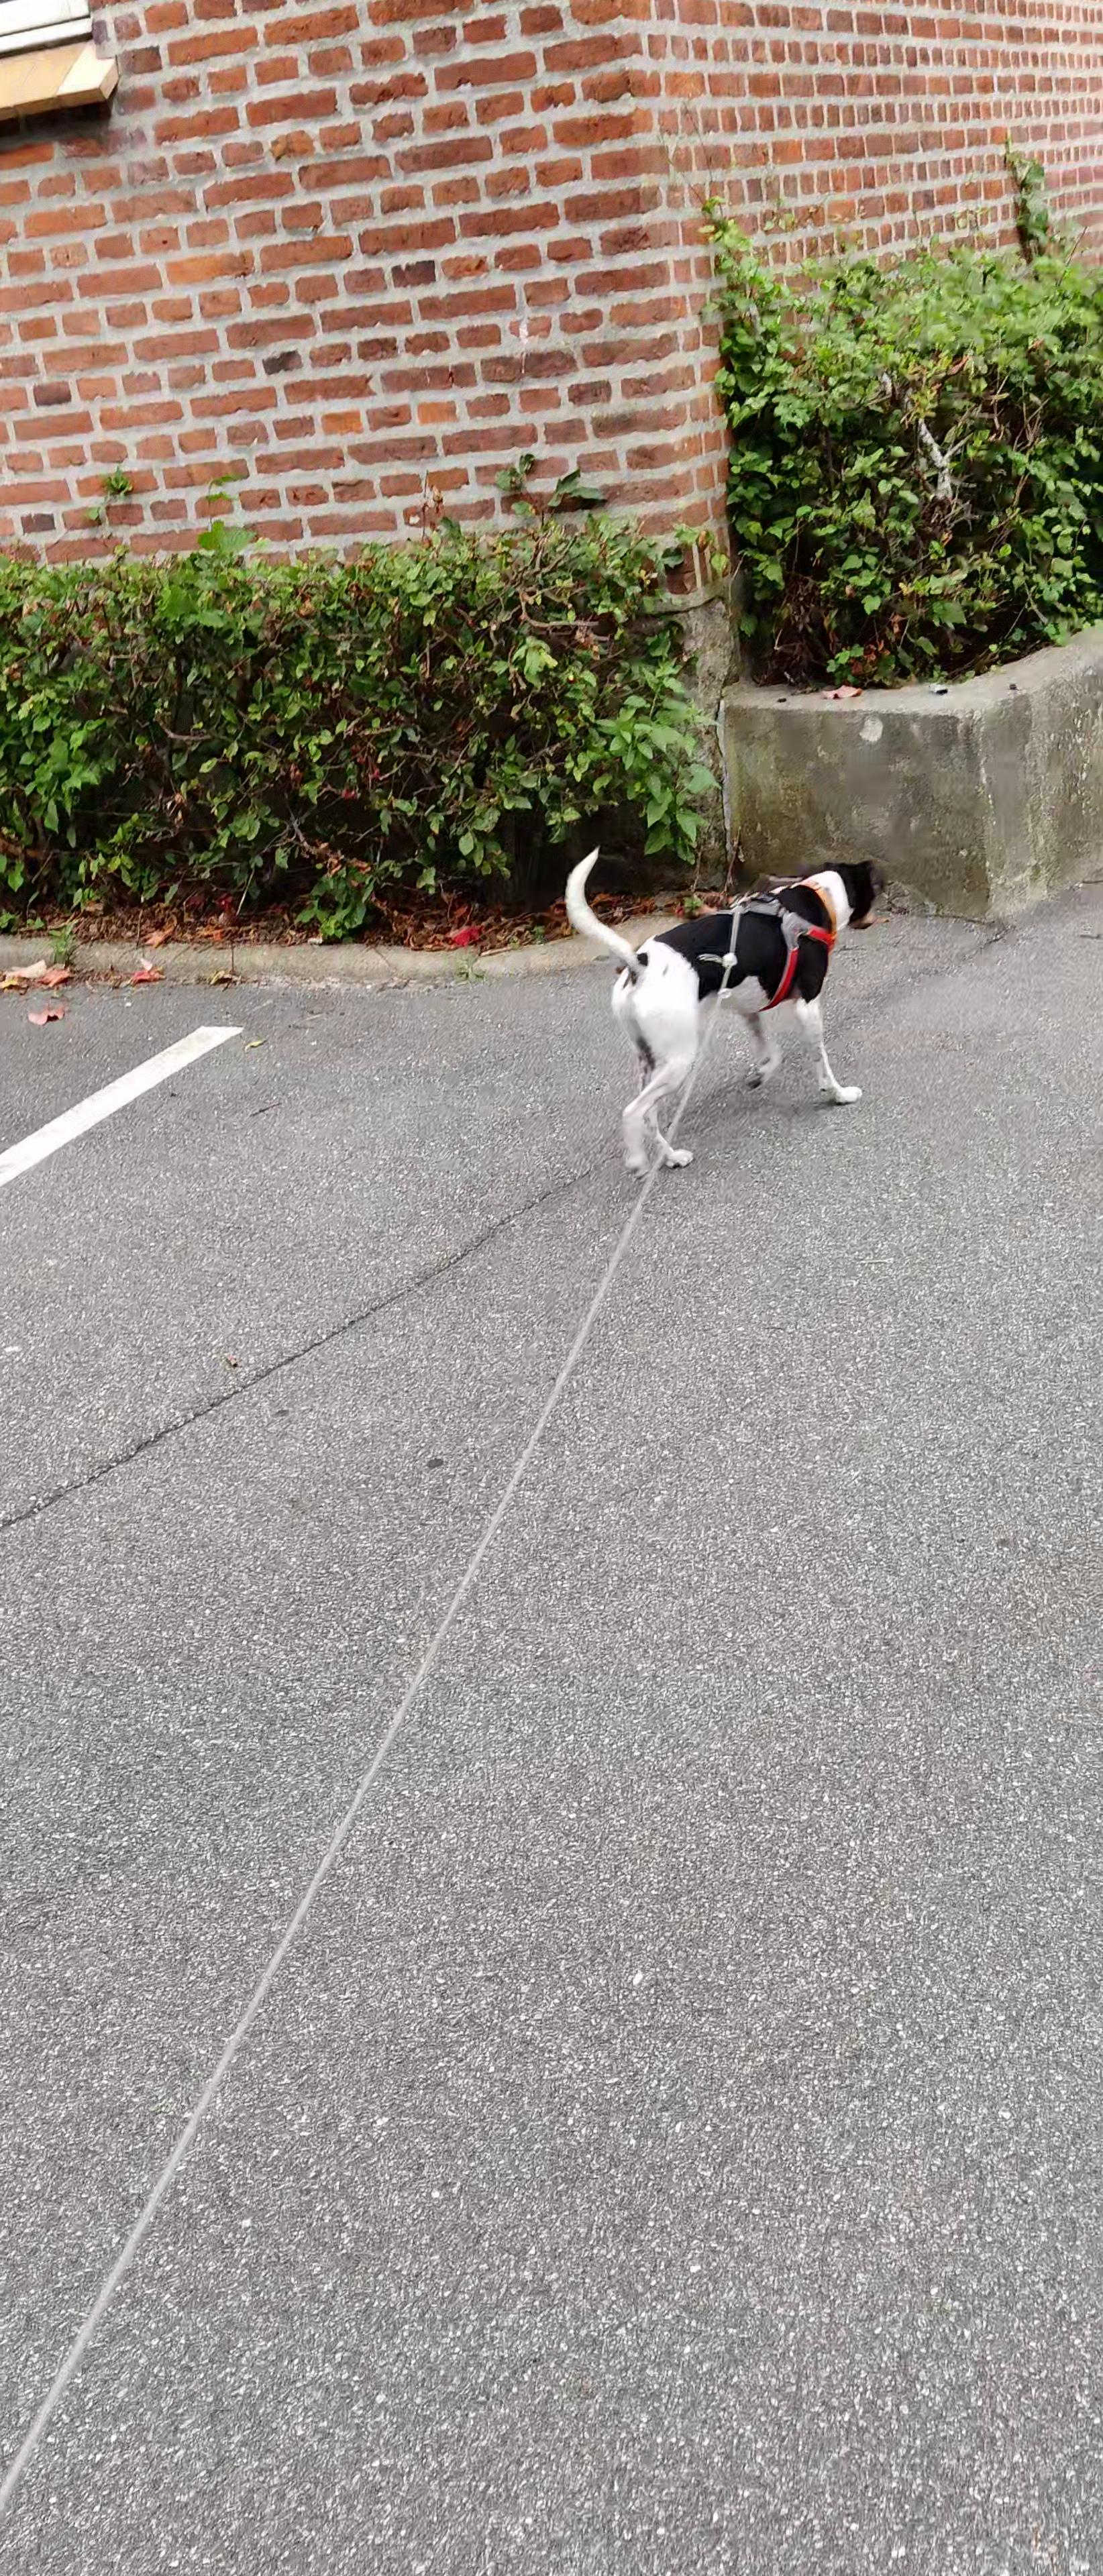Dog: (556, 828, 911, 1191)
